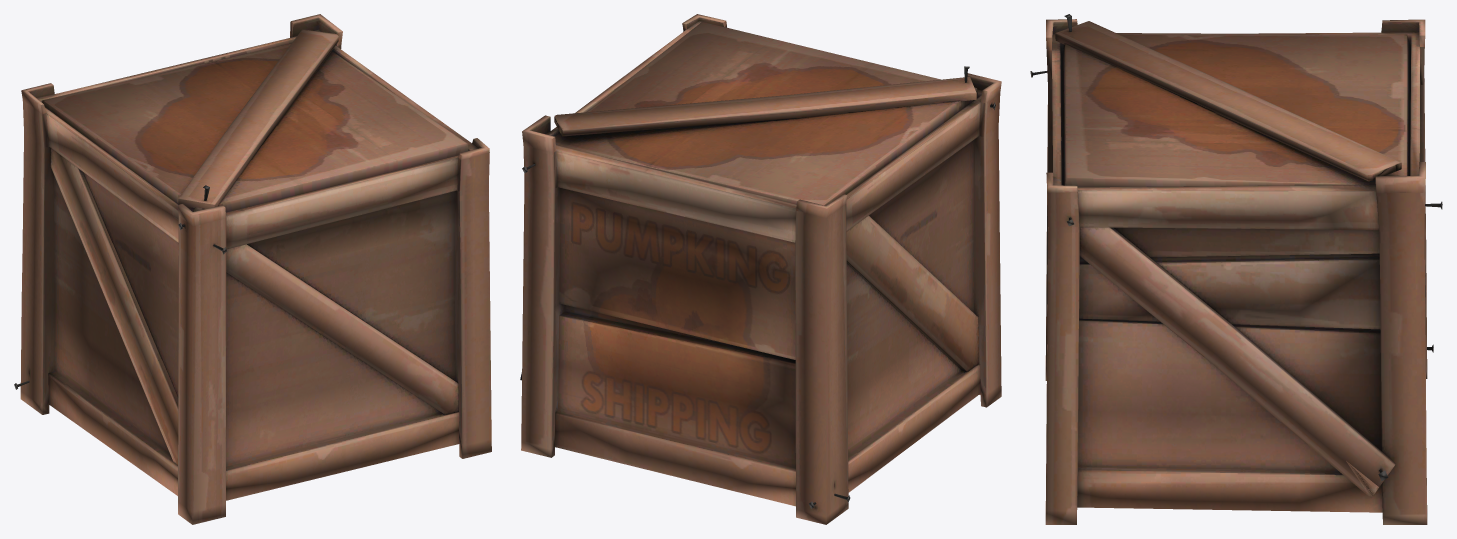
Rendered from barrel_crate_hwn_half.glb.
3 views of the same model, side by side, from view 1: azimuth 30°, elevation 25°; view 2: azimuth 150°, elevation 25°; view 3: azimuth 270°, elevation 25° (orthographic). The views are drawn at different scales.
Visible parts, largest first — view 1: barrel_crate_hwn_half; view 2: barrel_crate_hwn_half; view 3: barrel_crate_hwn_half.
Part boxes in pixels (x1,y1,x2,y2): barrel_crate_hwn_half: (14, 14, 491, 524); barrel_crate_hwn_half: (520, 14, 1001, 524); barrel_crate_hwn_half: (1030, 14, 1442, 524).
Size of the model in its own units: 1.57 by 1.47 by 1.52.
1 material, 1 textured.
